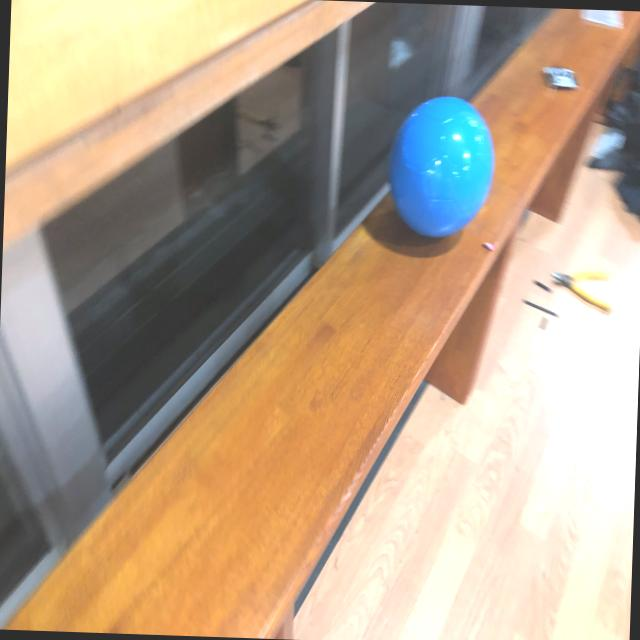blue_ball: (392, 92, 497, 232)
